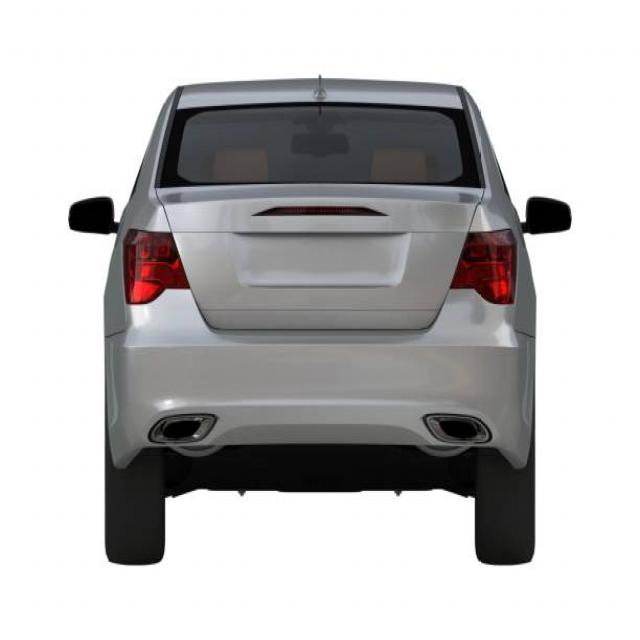yolov7-seg-car: (68, 75, 572, 567)
